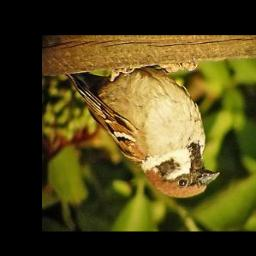Sparrow: (66, 56, 223, 200)
